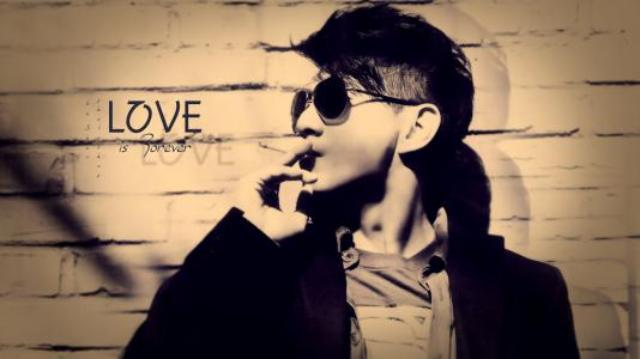Smoking: (254, 138, 288, 156)
